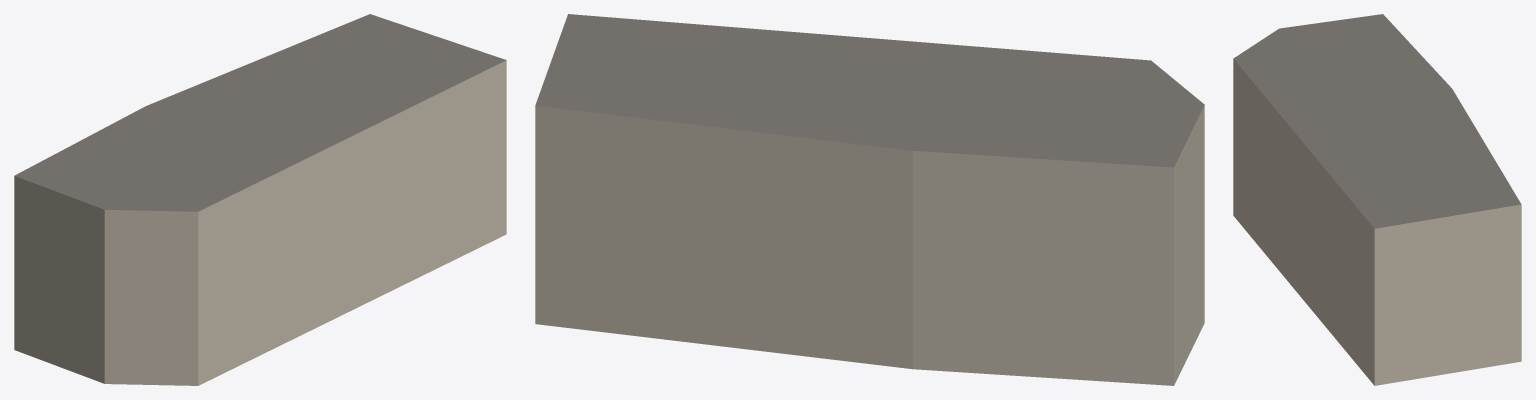
3 renders of one model, left to right at view 1: azimuth 30°, elevation 25°; view 2: azimuth 150°, elevation 25°; view 3: azimuth 270°, elevation 25°, orthographic. The views are drawn at different scales.
Visible parts, largest first — view 1: HP-w438969158; view 2: HP-w438969158; view 3: HP-w438969158.
Boxes of the visible parts, bbox=[...] form: HP-w438969158: bbox=[14, 14, 506, 385]; HP-w438969158: bbox=[535, 14, 1204, 385]; HP-w438969158: bbox=[1233, 14, 1521, 385].
Size of the model in its own units: 52.76 by 18 by 29.91.
